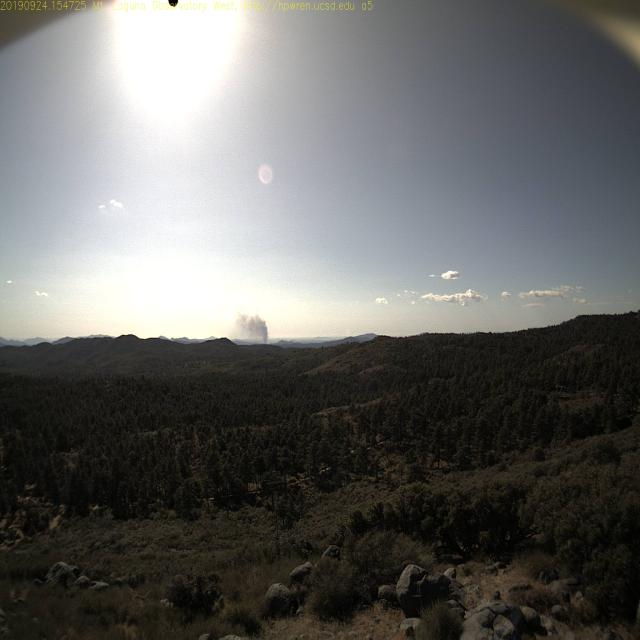smoke: (244, 311, 273, 348)
